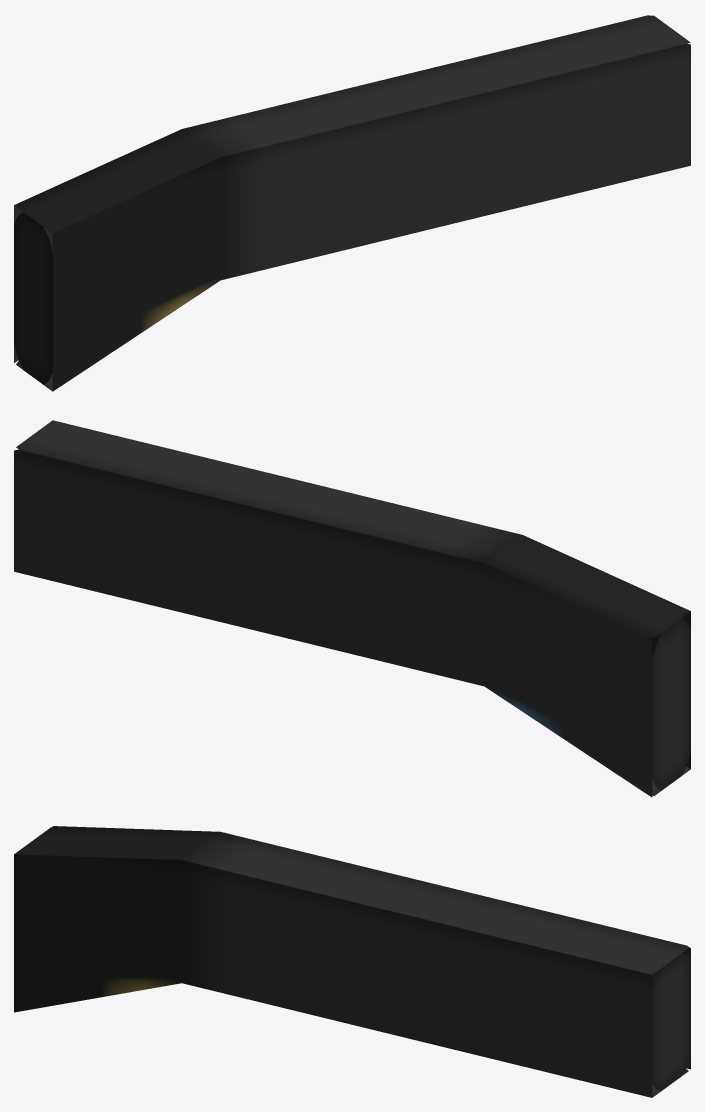
File: brake.obj
3 renders of one model, top to bottom at view 1: azimuth 30°, elevation 25°; view 2: azimuth 150°, elevation 25°; view 3: azimuth 330°, elevation 25°, orthographic.
Bounding box in the file's own units: 0.2375 × 0.0687 × 0.025.
